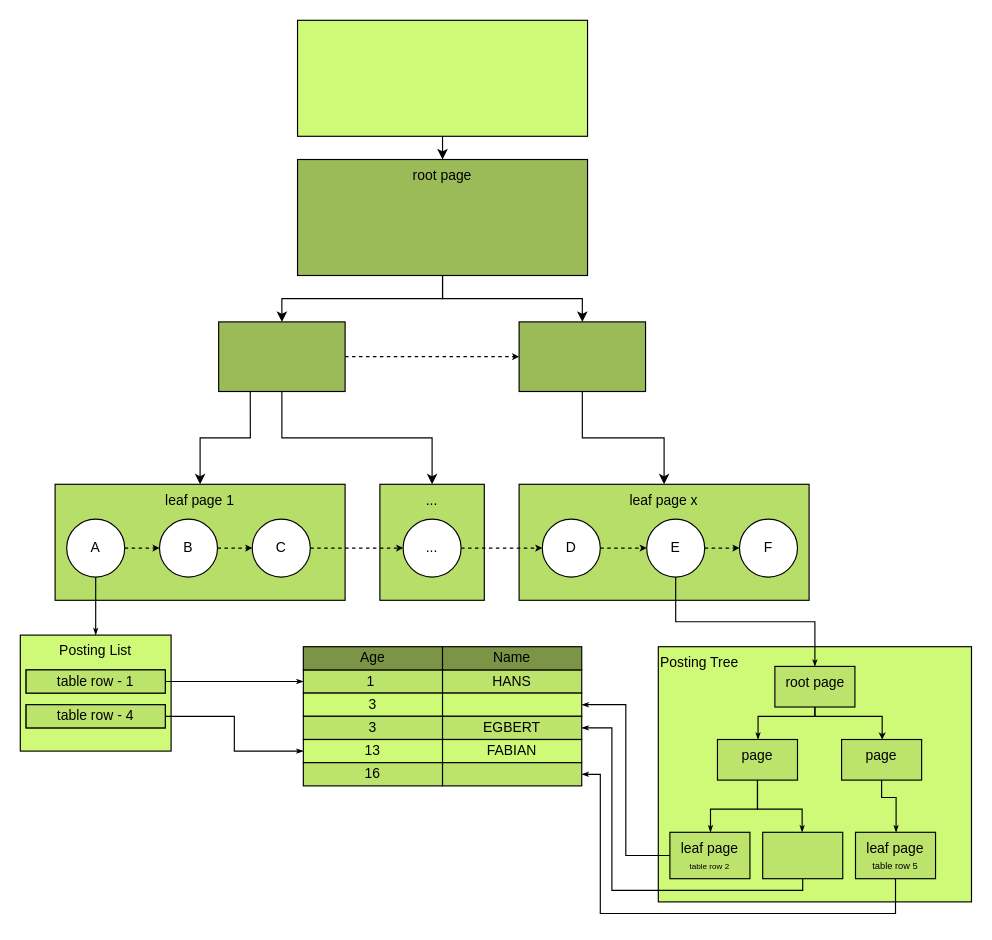
The diagram is 992 pixels wide and 940 high, and some of its shapes have lost their labels. The shapes that lost their labels are listed below. From the top down, each one's centre as x and y in pixels, then its label:
the point at 442,77: metadata page
the point at 281,356: page x
the point at 582,356: page y
the point at 511,704: BIRTE
the point at 511,774: STEFFEN
the point at 802,855: leaf page table row 3
